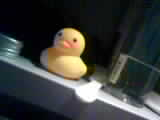duck: (42, 20, 93, 81)
